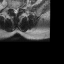CCS_normal: (14, 6, 16, 16)
LFS_severe_stenosis: (18, 4, 20, 11)
LLS_normal: (16, 5, 18, 14)
RFS_stenosis: (10, 4, 12, 11)
RLS_normal: (12, 6, 14, 14)
